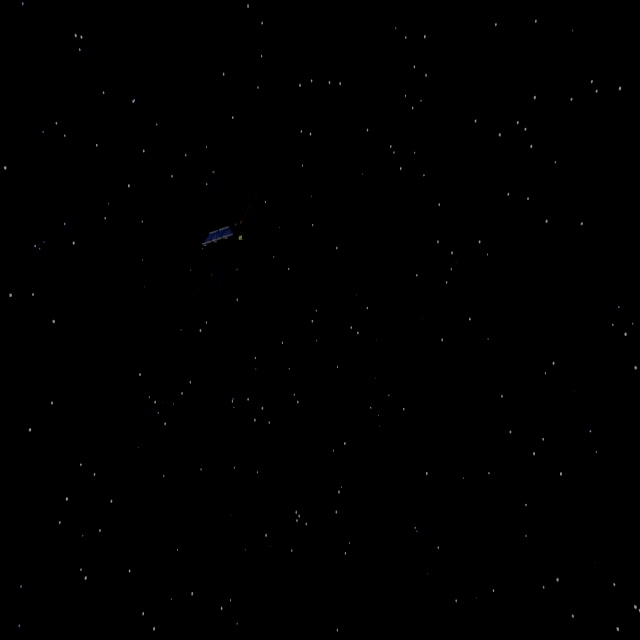medium_debris: (197, 160, 275, 298)
